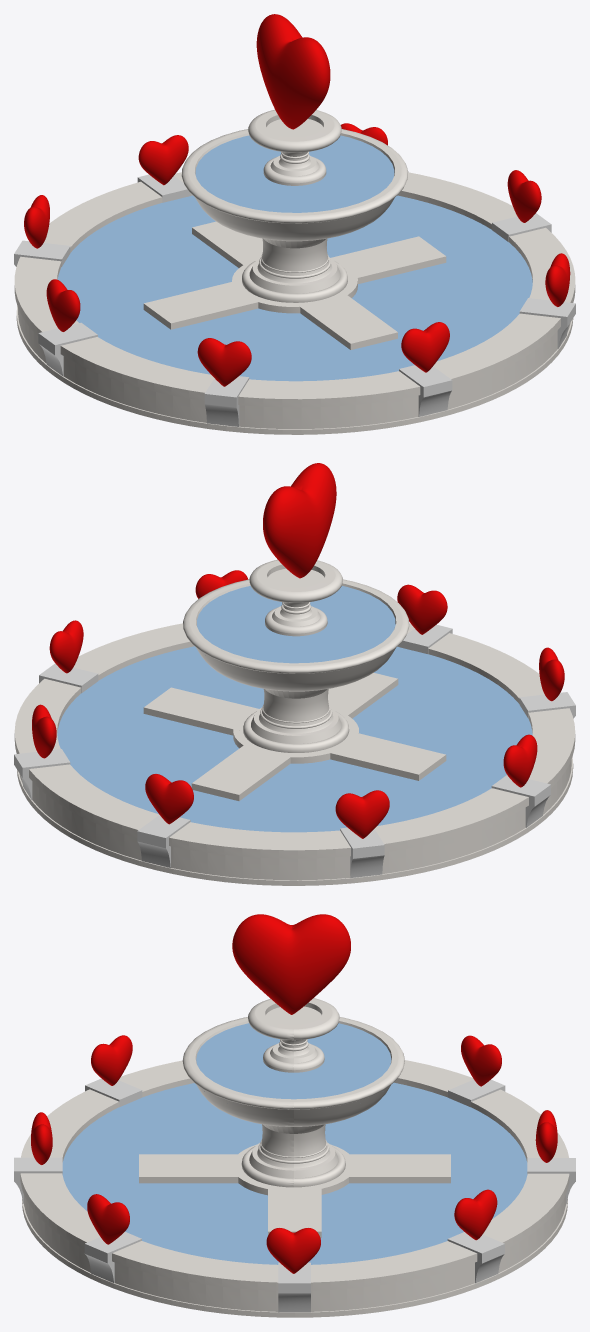
Rendered from Fountain.fbx.
3 views of the same model, one above another, from view 1: azimuth 30°, elevation 25°; view 2: azimuth 150°, elevation 25°; view 3: azimuth 270°, elevation 25° (orthographic).
Parts seen in each view (by area): view 1: Cylinder02; view 2: Cylinder02; view 3: Cylinder02.
Boxes of the visible parts, x1=… form: Cylinder02: x1=14, y1=14, x2=575, y2=434; Cylinder02: x1=14, y1=463, x2=575, y2=885; Cylinder02: x1=14, y1=914, x2=575, y2=1317.
Size of the model in its own units: 5.41 by 3.04 by 5.41.
